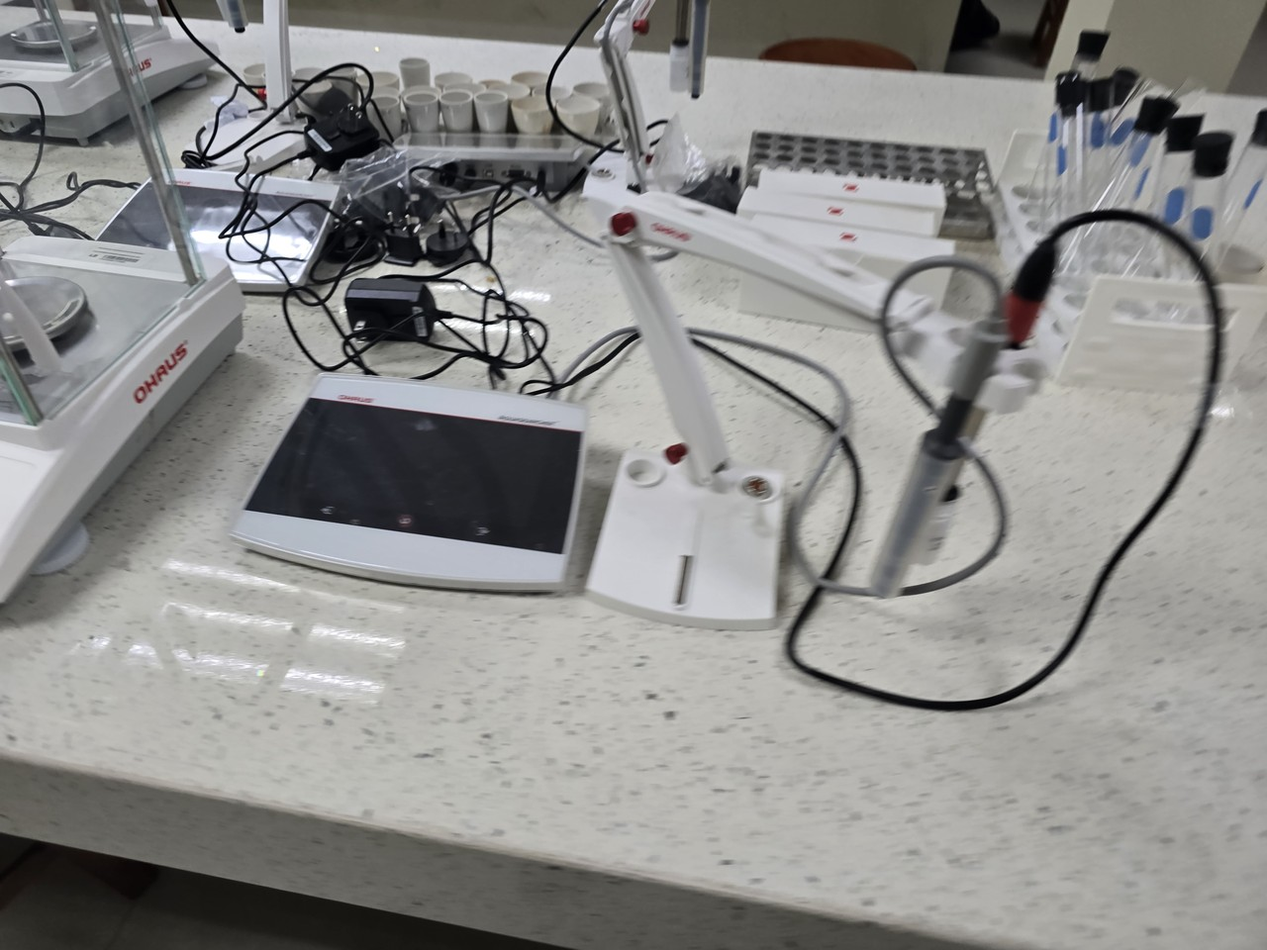aquasearcher_ab33m1: (221, 164, 1110, 889)
